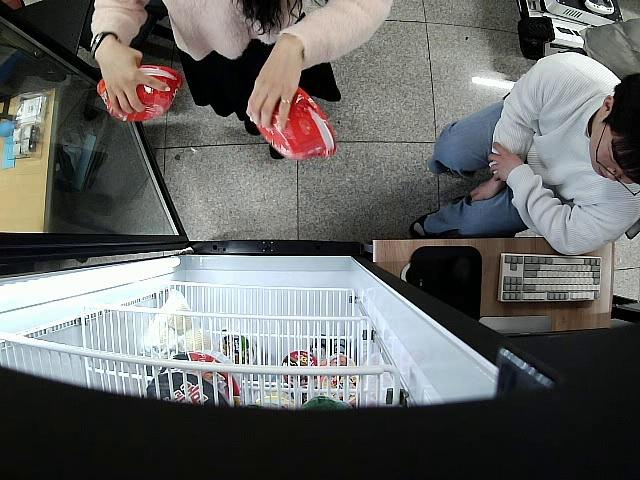00_hand: (95, 39, 172, 115), (245, 43, 301, 133)
10_wangTtukkeong: (257, 85, 337, 163), (97, 66, 181, 121)
